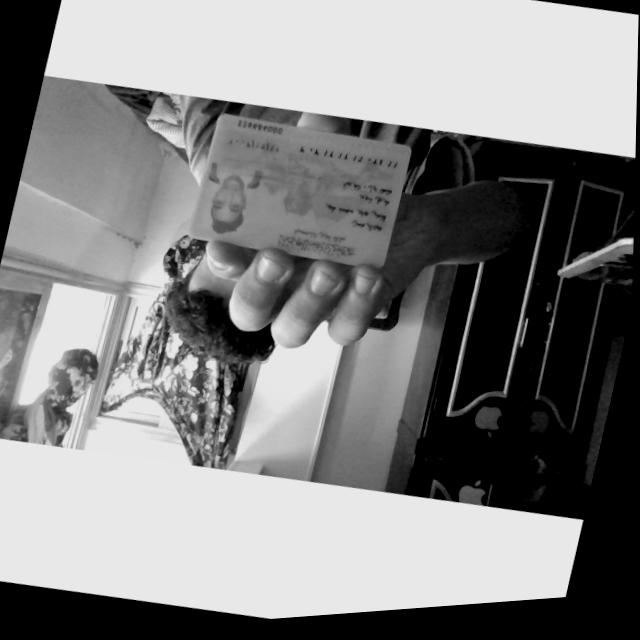id_card: (186, 114, 409, 265)
